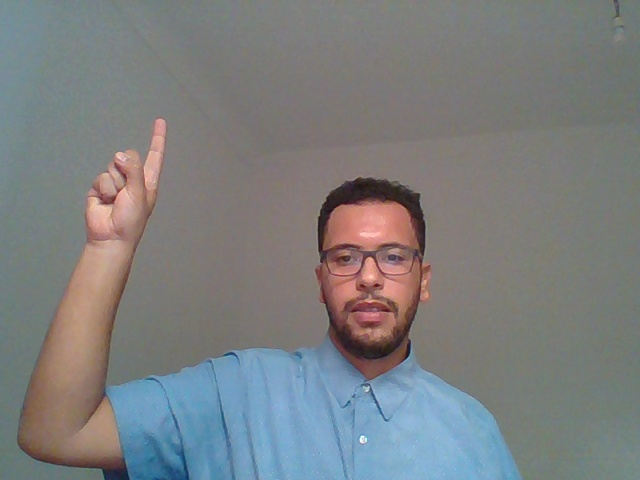handup: (58, 102, 183, 358)
